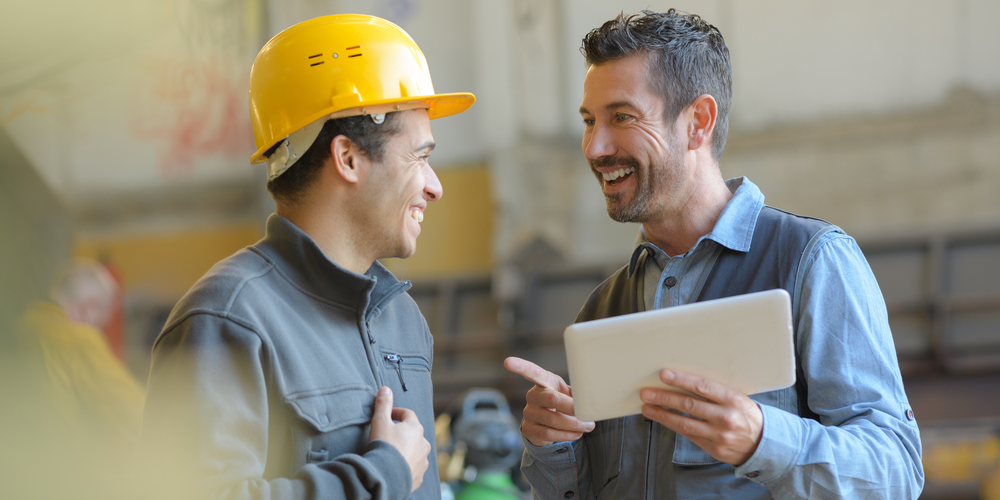No Safety Helmet: (561, 4, 760, 240)
Safety Helmet: (231, 6, 484, 284)
